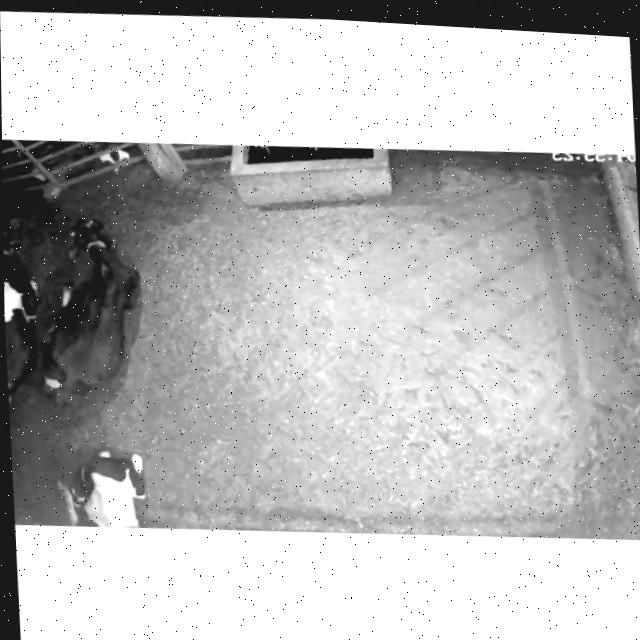lay: (30, 202, 172, 418), (3, 191, 42, 414)
